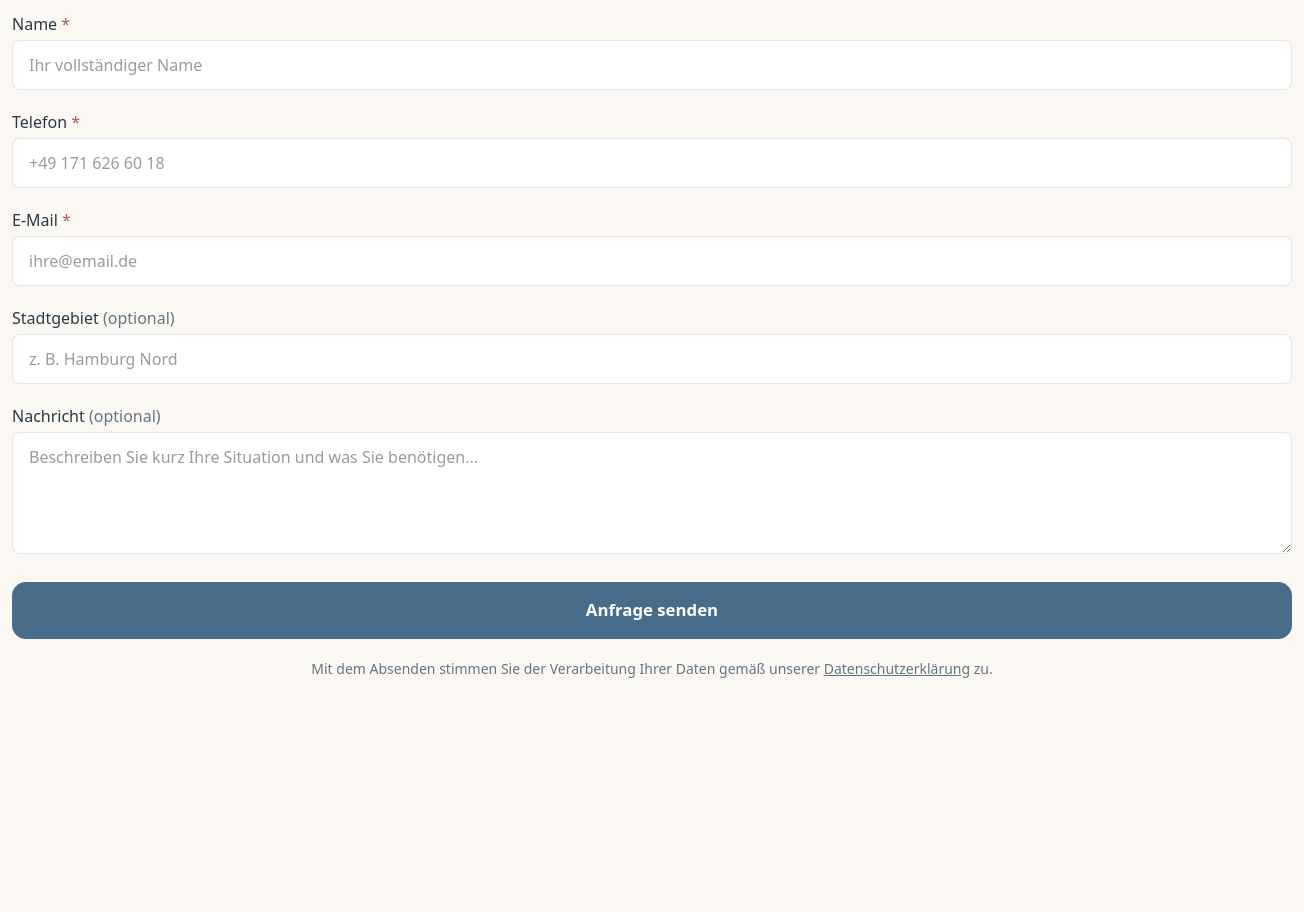
ContactForm › client-side validation › clears name error when user starts typing
// Trigger validation
Click the button "Anfrage senden" at point(652, 610), box [12,582,1292,639]
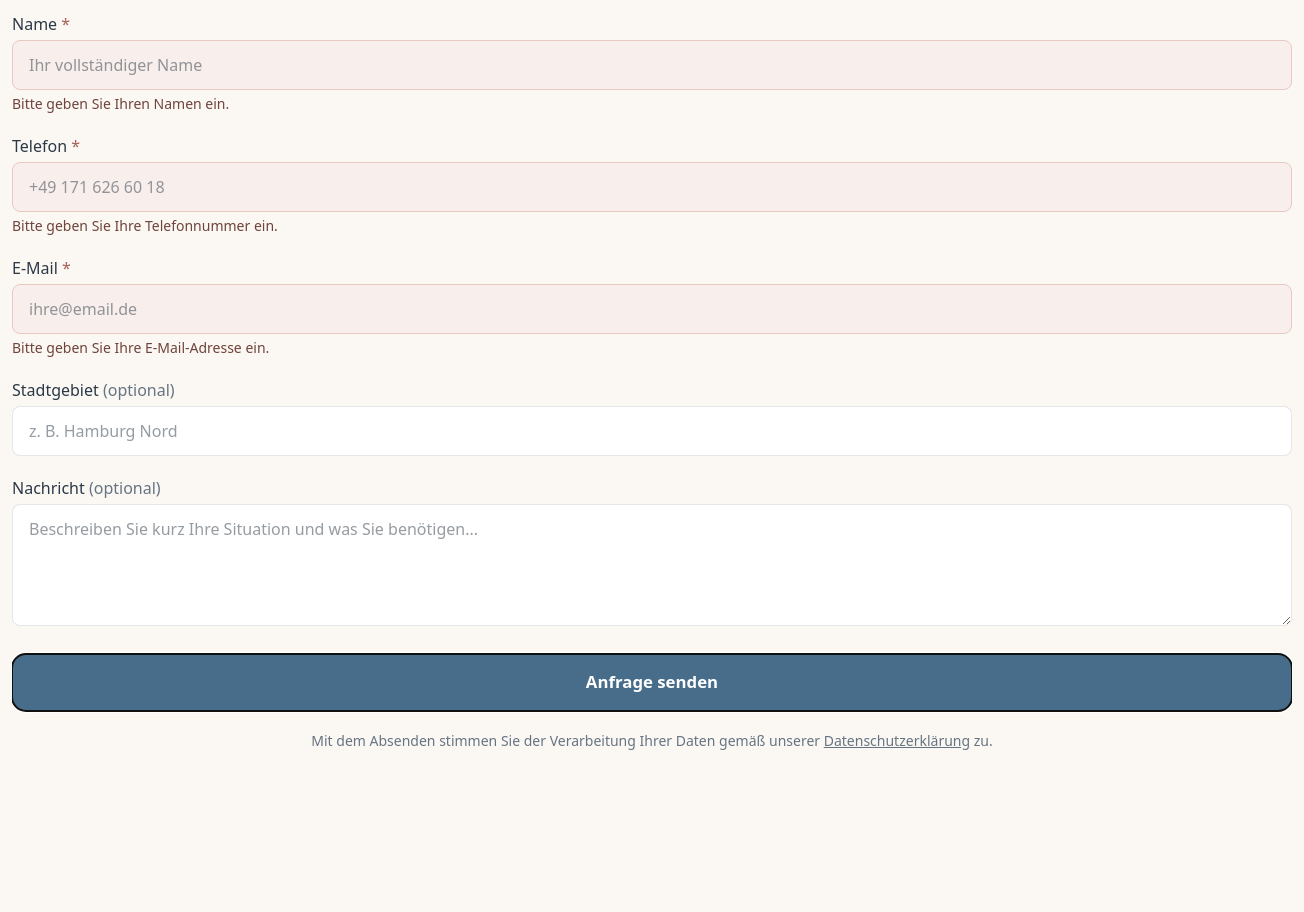
Expected: the text "Bitte geben Sie Ihren Namen ein." is shown, [12,94,229,113]
// Start typing in name field → error should disappear
Type "M" into the field labelled "Name *" at point(652, 65), box [12,40,1292,90]
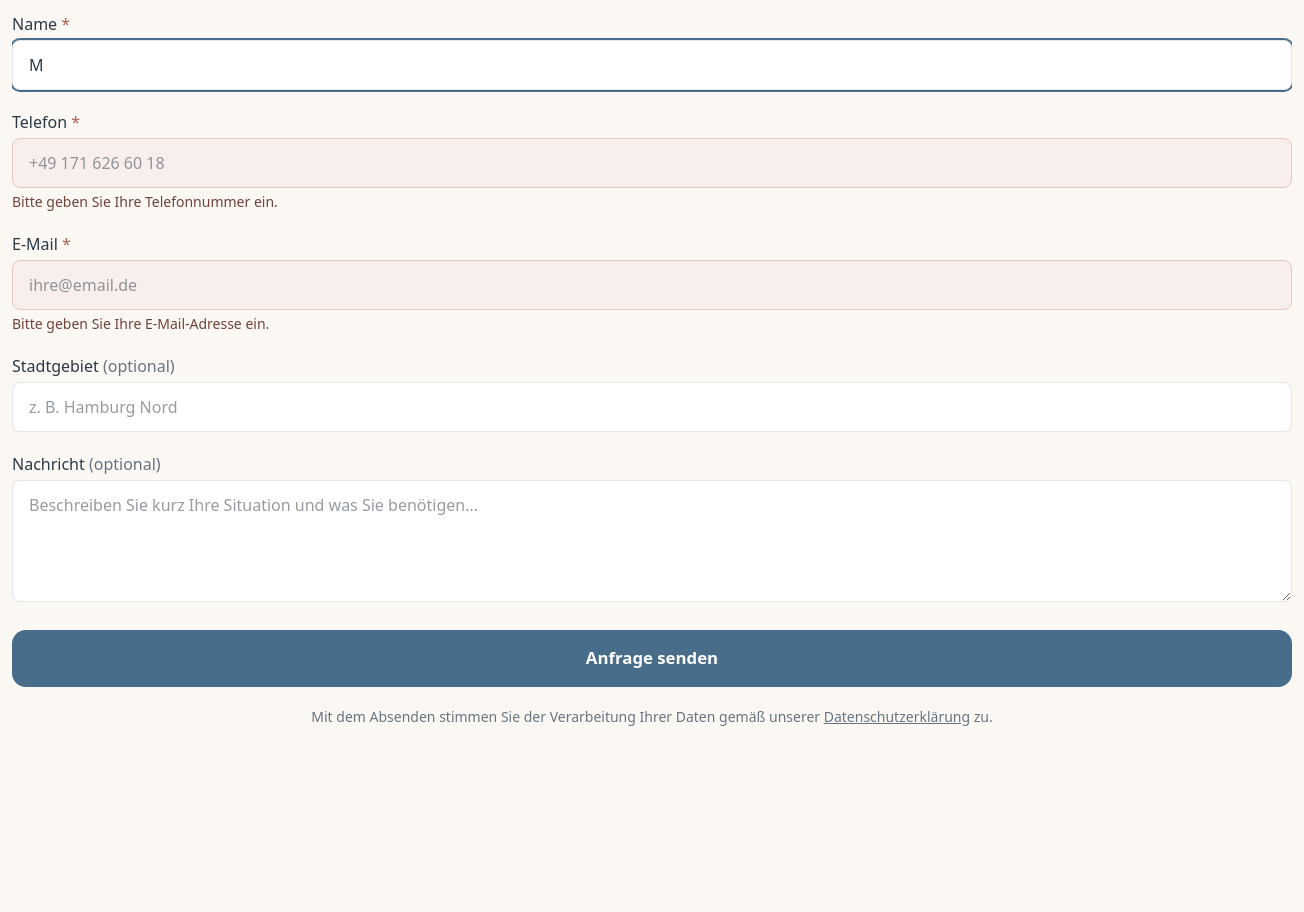
Expected: the text "Bitte geben Sie Ihren Namen ein" is gone
